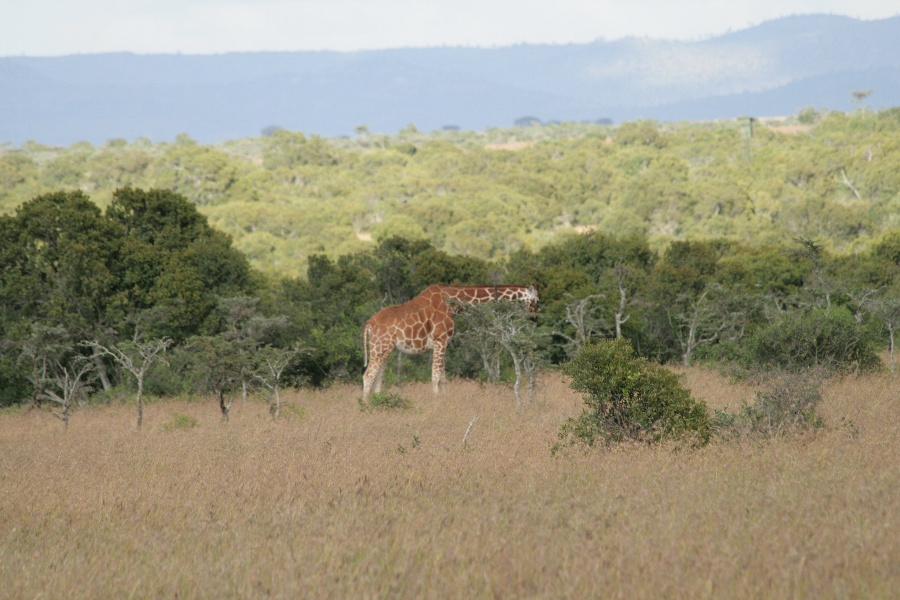giraffe: (352, 270, 549, 409)
